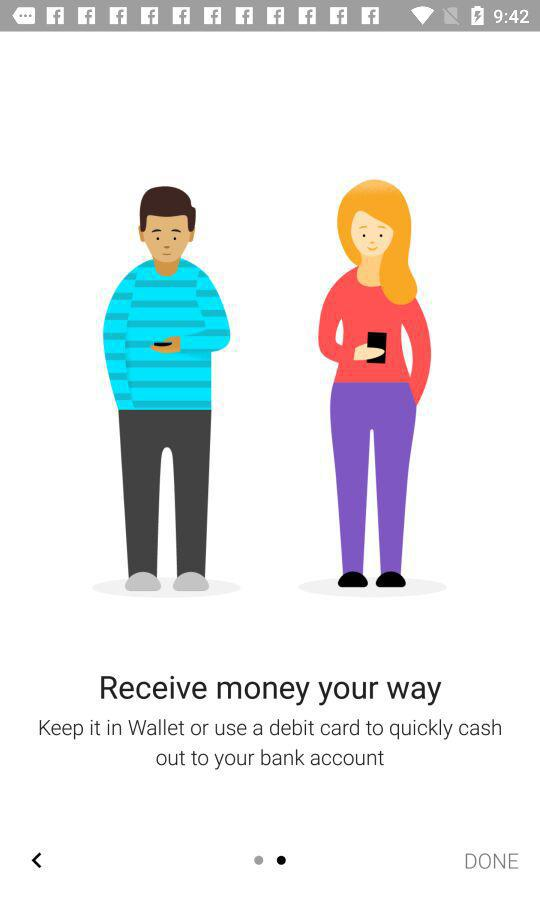Icon: (32, 852, 43, 869)
Image: (92, 178, 449, 600)
PageIndicator: (254, 855, 288, 866)
Text: (39, 717, 502, 771), (101, 674, 443, 707), (465, 852, 521, 871)
UpperTaskBar: (1, 1, 540, 33)
